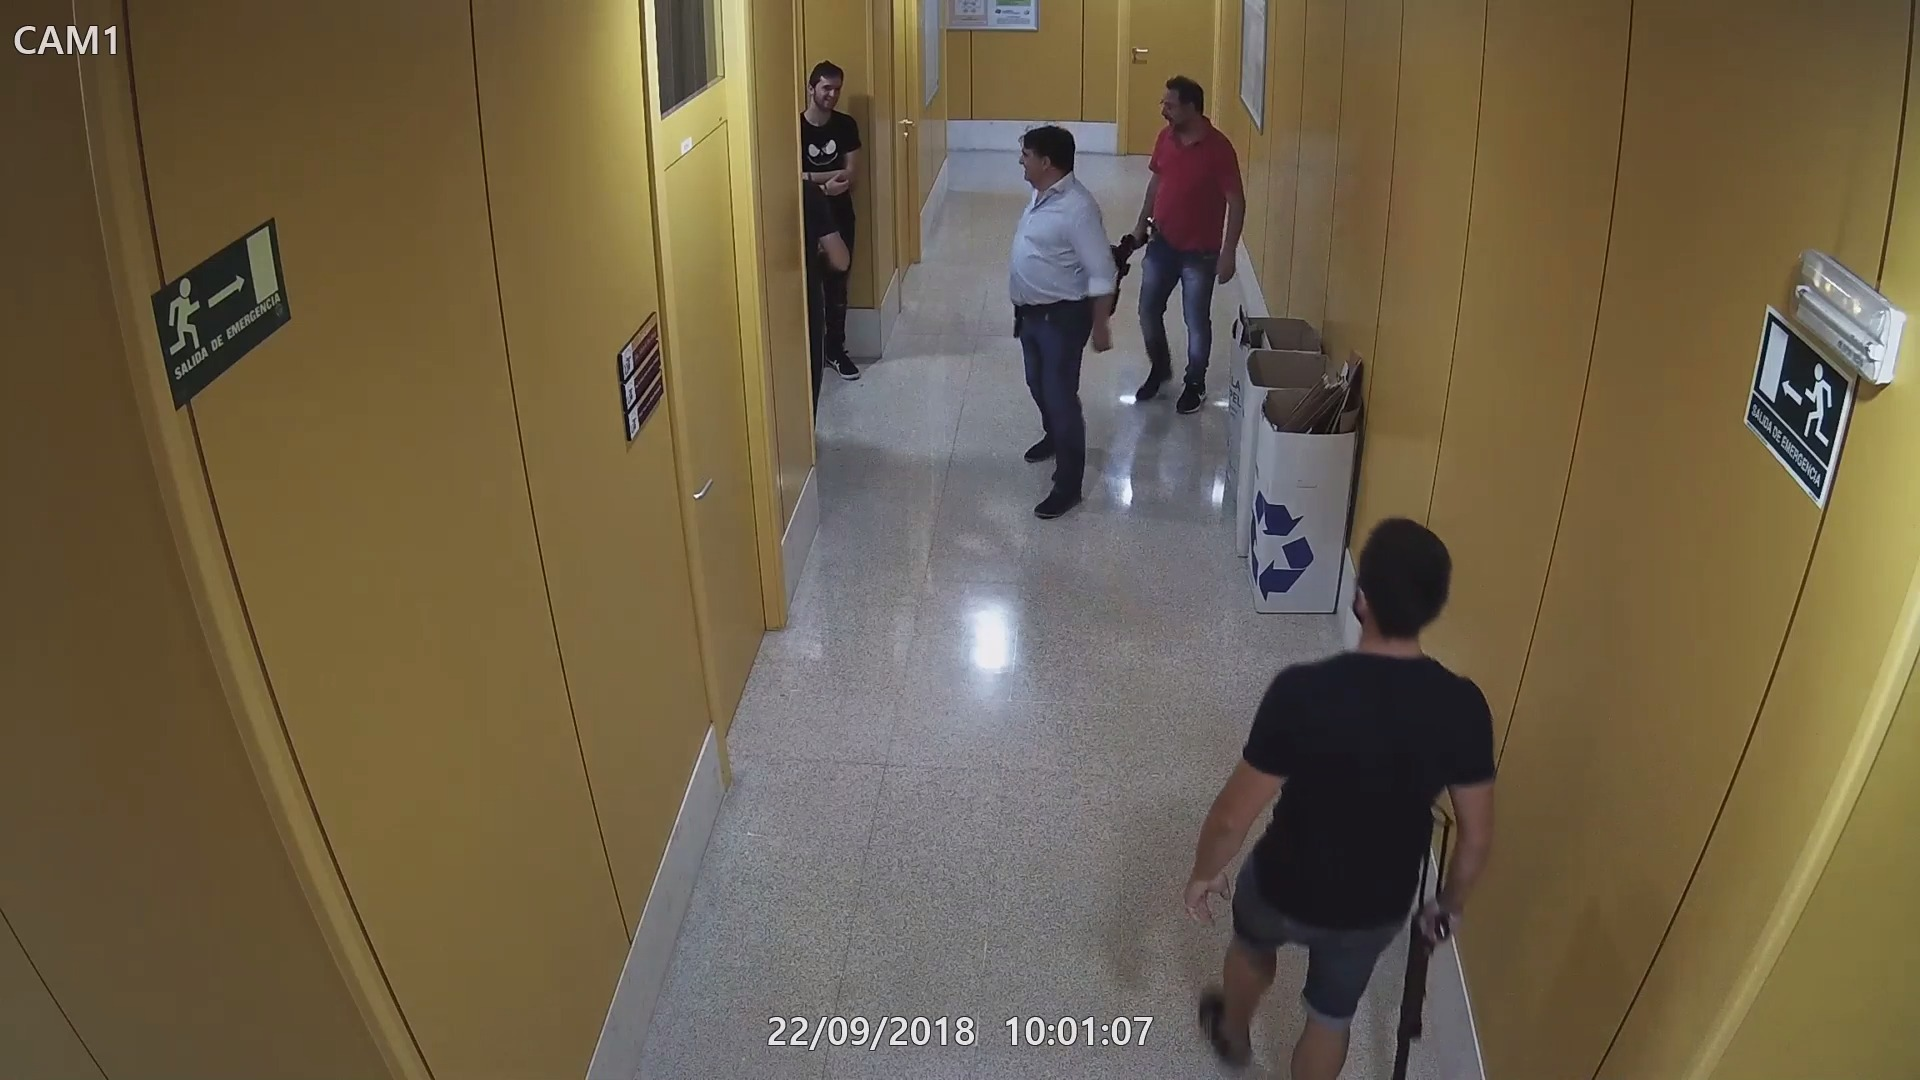Handgun: (1009, 291, 1023, 339), (1139, 222, 1159, 251)
Short_rifle: (1389, 800, 1464, 1079), (1109, 214, 1149, 324)
